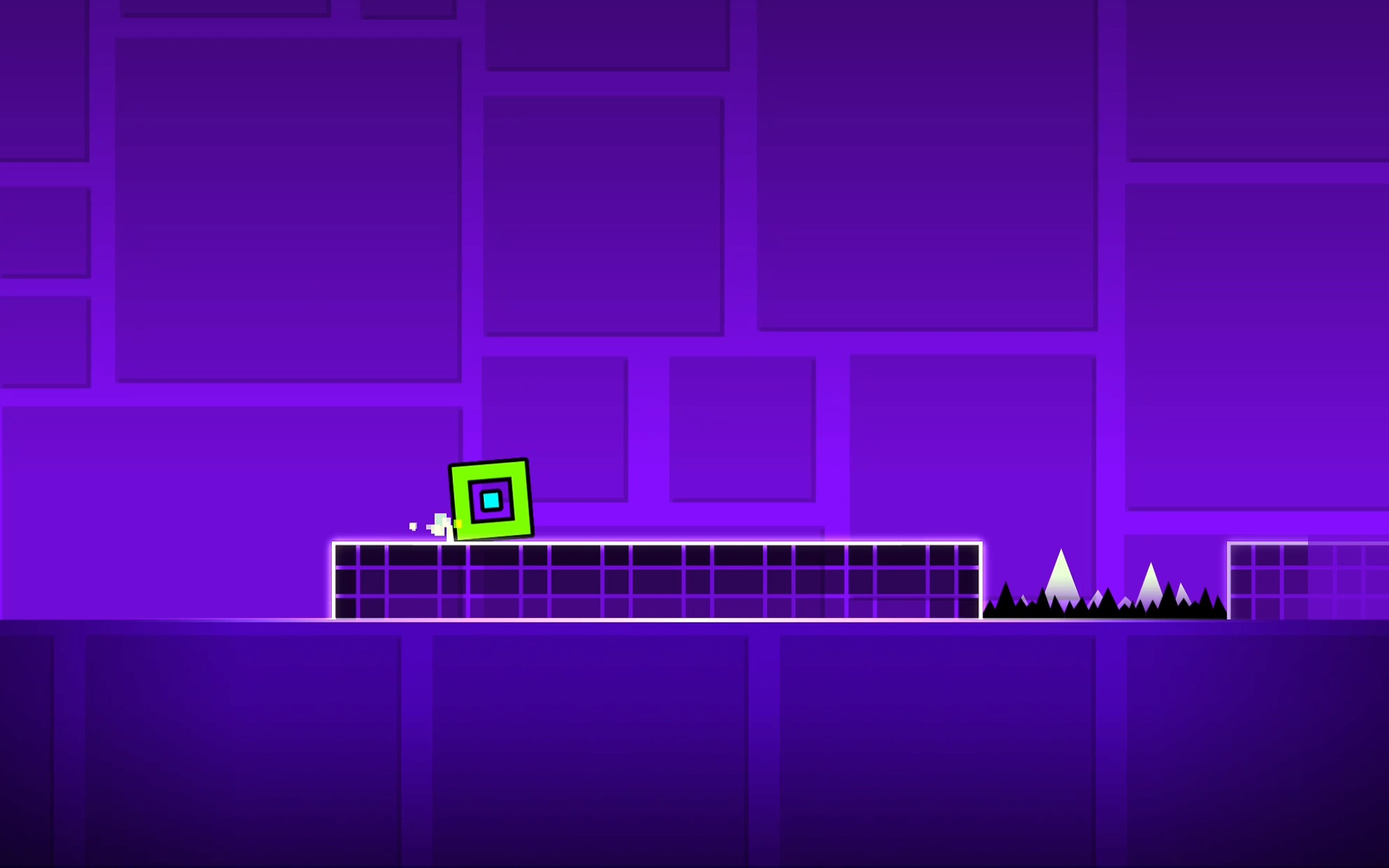Block2: (328, 540, 977, 615), (1227, 542, 1388, 618)
Player: (448, 458, 531, 540)
Spike3: (984, 584, 1227, 622)
